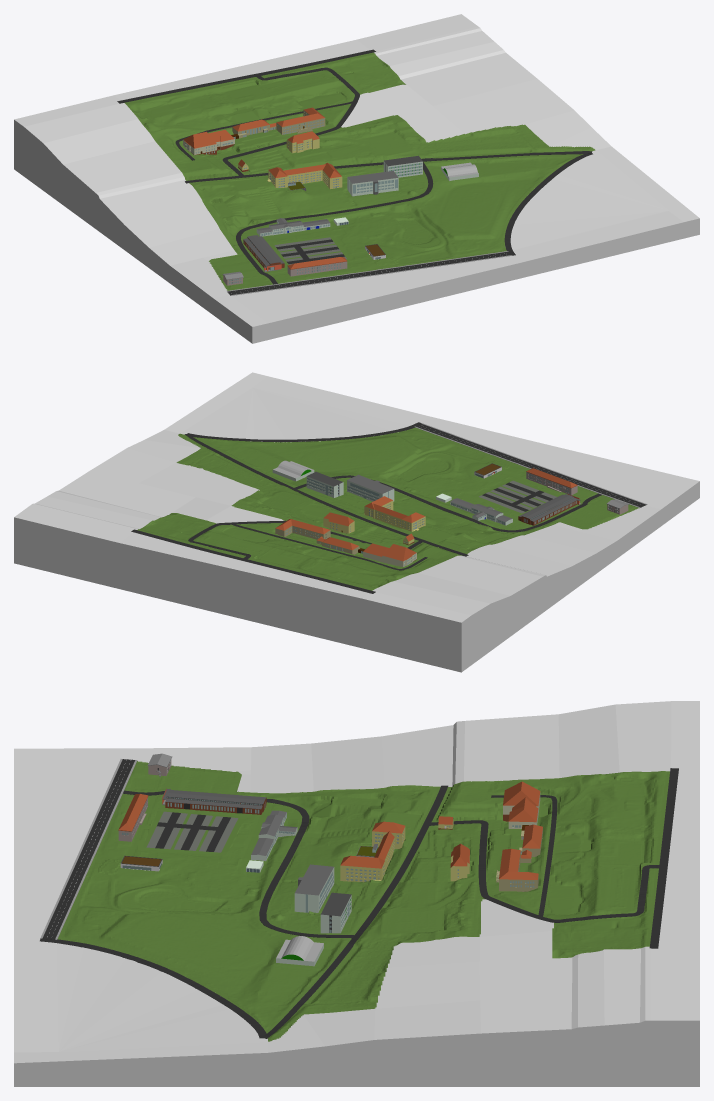
File: campus.glb
3 renders of one model, top to bottom at view 1: azimuth 30°, elevation 25°; view 2: azimuth 150°, elevation 25°; view 3: azimuth 270°, elevation 25°, orthographic. The views are drawn at different scales.
Visible parts, largest first — view 1: surfice, Hallische_Strasse, haus_18, haus_19, Weinberg_2, haus_8-10, wb_hof_1, Klei_st, Weinberg_haupt, haus_28, haus_12, haus_34 (+6 smaller); view 2: surfice, Hallische_Strasse, haus_18, Weinberg_haupt, haus_8-10, haus_28, Weinberg_2, Klei_st, haus_19, Stresemannring, haus_25, haus_12 (+6 smaller); view 3: surfice, Hallische_Strasse, haus_18, Weinberg_haupt, haus_28, wb_hof_1, Klei_st, Weinberg_2, haus_19, haus_8-10, Stresemannring, haus_12 (+7 smaller).
Part boxes in pixels (box(x1,y1,x2,y2)): surfice: box(14, 14, 699, 343); Hallische_Strasse: box(227, 251, 511, 295); haus_18: box(267, 162, 342, 190); haus_19: box(347, 171, 398, 196); Weinberg_2: box(236, 162, 433, 284); haus_8-10: box(183, 129, 238, 155); wb_hof_1: box(222, 67, 359, 175); Klei_st: box(117, 49, 375, 103); Weinberg_haupt: box(185, 151, 592, 183); haus_28: box(243, 235, 284, 271); haus_12: box(276, 107, 325, 134); haus_34: box(287, 257, 347, 276); surfice: box(14, 372, 699, 672); Hallische_Strasse: box(414, 423, 647, 507); haus_18: box(364, 496, 425, 531); Weinberg_haupt: box(185, 434, 468, 556); haus_8-10: box(358, 543, 416, 566); haus_28: box(518, 494, 580, 525); Weinberg_2: box(294, 475, 601, 532); Klei_st: box(131, 529, 375, 593); haus_19: box(347, 474, 394, 501); Stresemannring: box(186, 422, 421, 442); haus_25: box(450, 498, 512, 525); haus_12: box(275, 519, 330, 539); surfice: box(14, 701, 699, 1086); Hallische_Strasse: box(40, 759, 137, 939); haus_18: box(340, 821, 405, 882); Weinberg_haupt: box(262, 785, 448, 1038); haus_28: box(162, 788, 266, 814); wb_hof_1: box(429, 820, 659, 922); Klei_st: box(649, 768, 678, 948); Weinberg_2: box(123, 790, 354, 938); haus_19: box(294, 864, 334, 912); haus_8-10: box(503, 781, 540, 830); Stresemannring: box(40, 938, 266, 1038); haus_12: box(496, 848, 538, 891).
Size of the model in its own units: 520 by 57 by 480.
